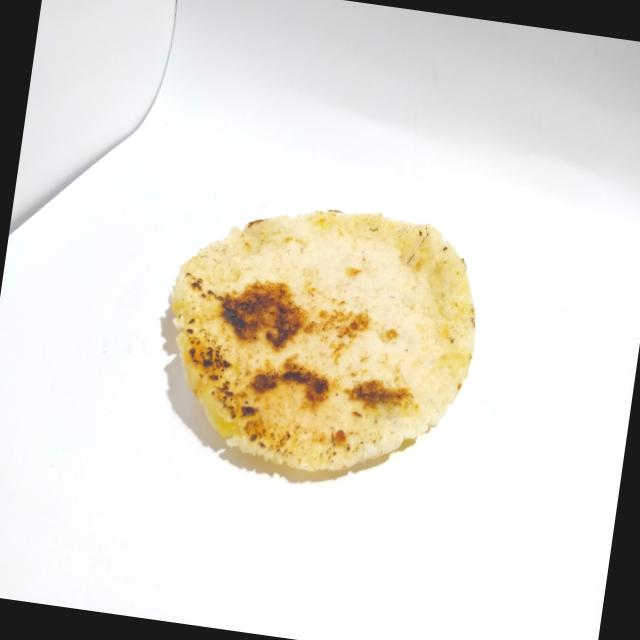Mbeju: (140, 175, 500, 501)
